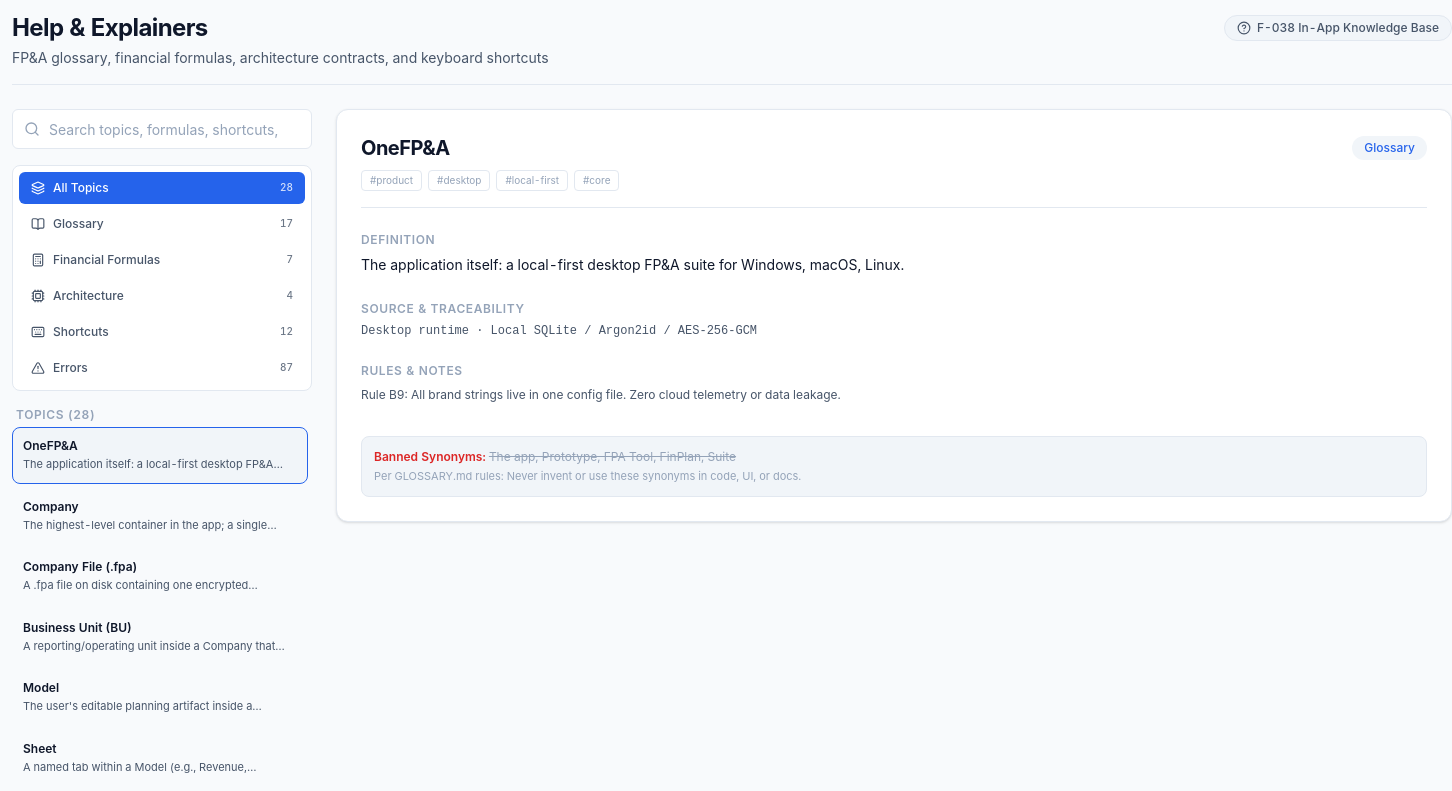
Scenario: S-076 Help & Explainers (F-038) › filters by category tabs (e.g. Financial Formulas)
Click the tab "Financial Formulas 7". click: (162, 260)
box: [19,244,305,276]
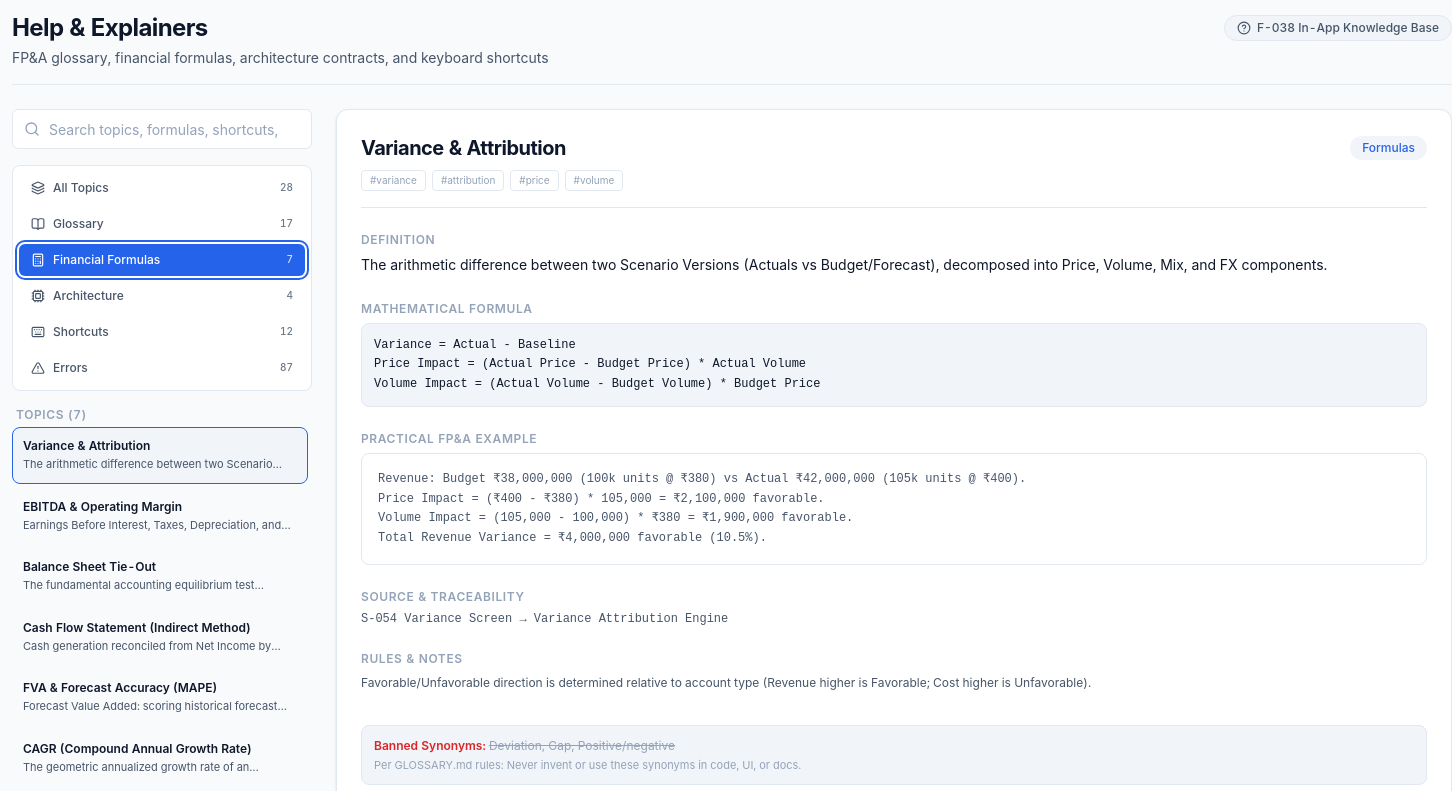
Expected: the button "Variance & Attribution" is shown, [12,427,308,484]
Expected: the button "EBITDA & Operating Margin" is shown, [12,488,308,544]
Expected: the button "Balance Sheet Tie-Out" is shown, [12,548,308,604]
